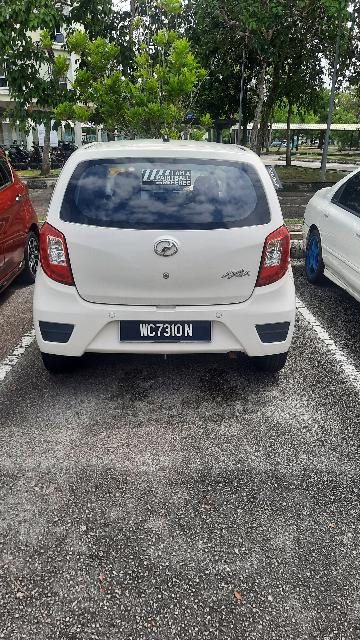License_Plate: (119, 317, 218, 346)
car: (30, 134, 300, 381)
